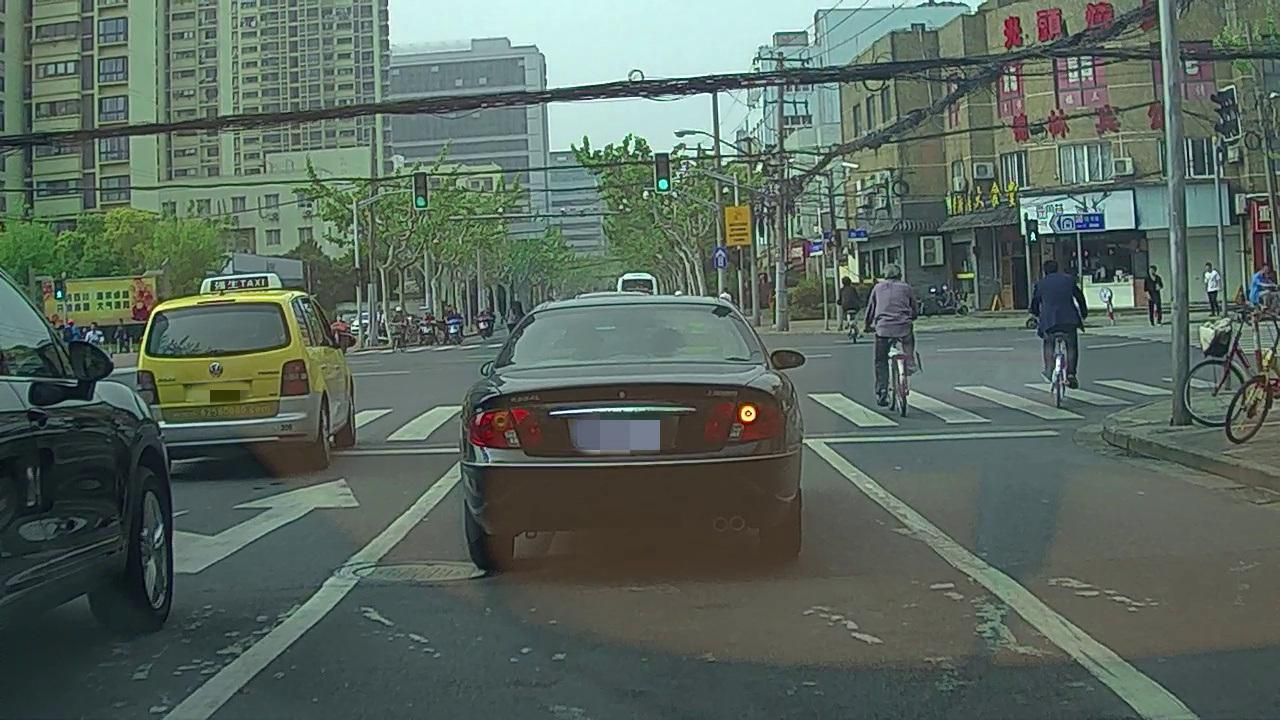traffic_light: (654, 152, 670, 192), (413, 174, 428, 208)
